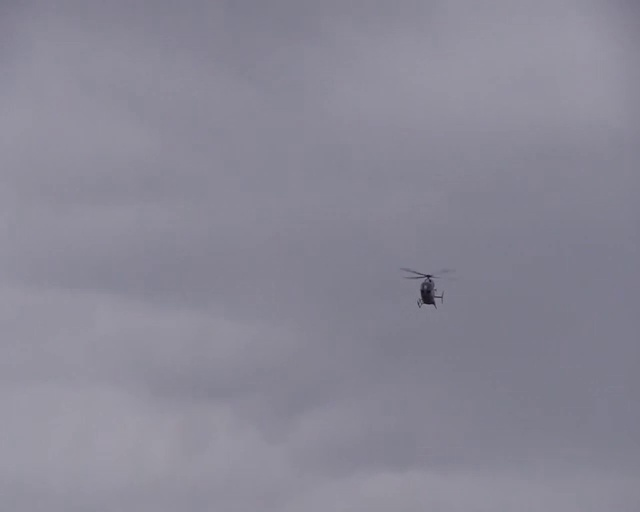HELICOPTER: (400, 266, 456, 309)
